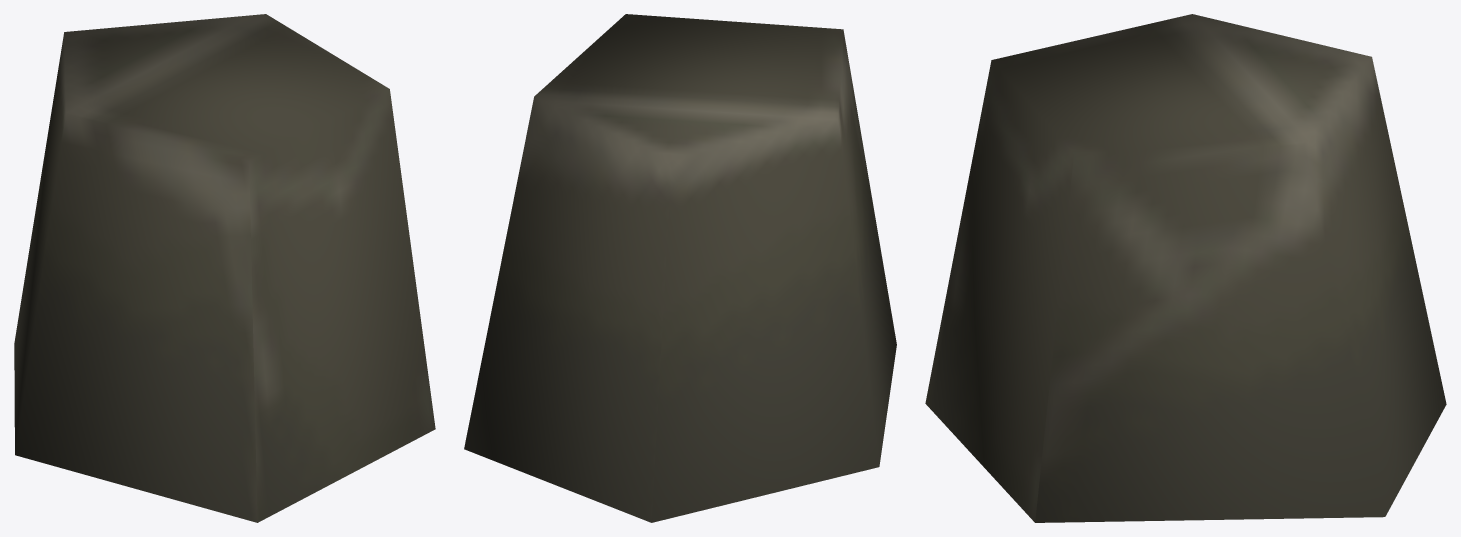
The model's file is sn_longmai_shibianw_004.FBX.
3 views of the same model, side by side, from view 1: azimuth 30°, elevation 25°; view 2: azimuth 150°, elevation 25°; view 3: azimuth 270°, elevation 25° (orthographic). The views are drawn at different scales.
Visible parts, largest first — view 1: sn_longmai_shibianw_004; view 2: sn_longmai_shibianw_004; view 3: sn_longmai_shibianw_004.
Boxes of the visible parts, bbox=[...] form: sn_longmai_shibianw_004: bbox=[14, 14, 435, 522]; sn_longmai_shibianw_004: bbox=[464, 14, 896, 522]; sn_longmai_shibianw_004: bbox=[925, 14, 1446, 522].
Size of the model in its own units: 23.45 by 21.85 by 29.05.
